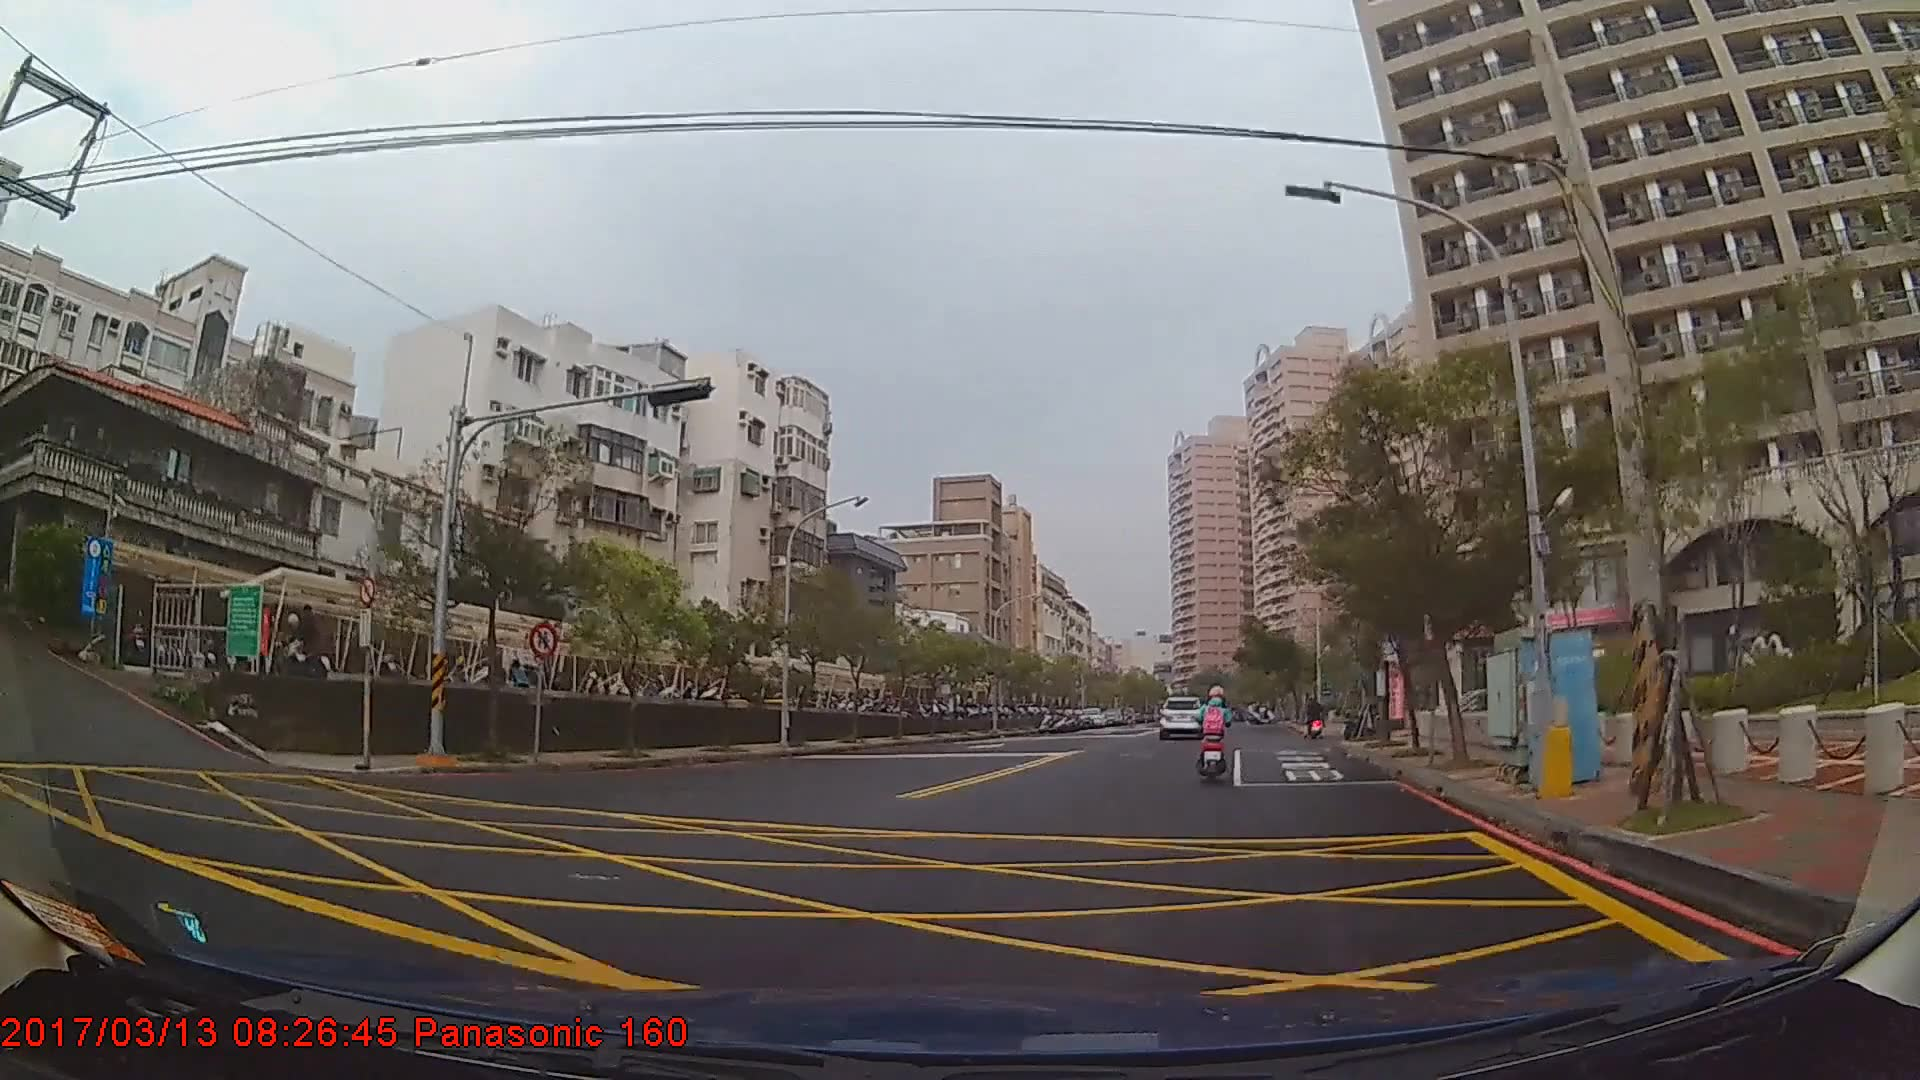rider: (1193, 683, 1236, 783)
vehicle: (1158, 693, 1203, 738)
